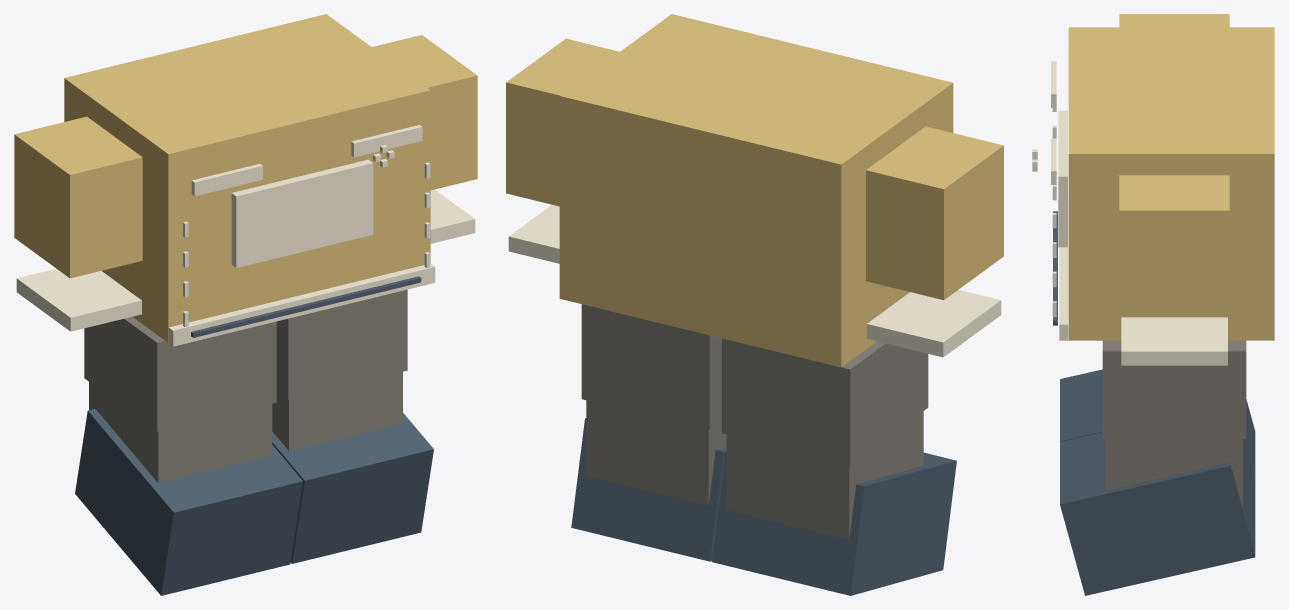
The model's file is casual-amber.glb.
3 renders of one model, left to right at view 1: azimuth 30°, elevation 25°; view 2: azimuth 150°, elevation 25°; view 3: azimuth 270°, elevation 25°, orthographic. The views are drawn at different scales.
Visible parts, largest first — view 1: jacket, shoe-Right, upper-sleeve-Right, trouser-Right, shoe-Left, tee-panel, trouser-Left, lower-trouser-Right, upper-sleeve-Left, lower-trouser-Left, cuff-Right, tee-hem (+4 smaller); view 2: jacket, upper-sleeve-Right, trouser-Right, shoe-Right, trouser-Left, lower-trouser-Right, lower-trouser-Left, upper-sleeve-Left, shoe-Left, cuff-Right, cuff-Left; view 3: jacket, shoe-Left, upper-sleeve-Left, trouser-Left, lower-trouser-Left, cuff-Left, shoe-Right, upper-sleeve-Right, tee-panel, tee-hem, design-casual-double-hem.
Part boxes in pixels (<box>): jacket: <box>64,14,430,342</box>; shoe-Right: <box>75,409,302,595</box>; upper-sleeve-Right: <box>14,116,142,278</box>; trouser-Right: <box>84,317,276,431</box>; shoe-Left: <box>272,413,433,563</box>; tee-panel: <box>231,159,373,267</box>; trouser-Left: <box>276,289,407,399</box>; lower-trouser-Right: <box>89,382,272,482</box>; upper-sleeve-Left: <box>372,35,477,190</box>; lower-trouser-Left: <box>272,372,402,451</box>; cuff-Right: <box>16,268,141,331</box>; tee-hem: <box>168,263,435,346</box>; jacket: <box>559,14,953,367</box>; upper-sleeve-Right: <box>866,126,1003,300</box>; trouser-Right: <box>722,338,928,464</box>; shoe-Right: <box>712,452,956,595</box>; trouser-Left: <box>581,304,721,430</box>; lower-trouser-Right: <box>726,411,923,539</box>; lower-trouser-Left: <box>586,400,726,505</box>; upper-sleeve-Left: <box>506,38,619,206</box>; shoe-Left: <box>571,418,726,561</box>; cuff-Right: <box>867,289,1001,357</box>; cuff-Left: <box>508,204,559,263</box>; jacket: <box>1068,27,1274,340</box>; shoe-Left: <box>1060,432,1255,595</box>; upper-sleeve-Left: <box>1119,175,1229,312</box>; trouser-Left: <box>1102,340,1246,438</box>; lower-trouser-Left: <box>1106,439,1242,507</box>; cuff-Left: <box>1121,317,1227,365</box>; shoe-Right: <box>1060,369,1255,493</box>; upper-sleeve-Right: <box>1119,14,1229,27</box>; tee-panel: <box>1058,110,1067,247</box>; tee-hem: <box>1059,198,1068,340</box>; design-casual-double-hem: <box>1053,211,1057,325</box>.
Bounding box in the file's own units: 1.07 × 1.13 × 0.559.
